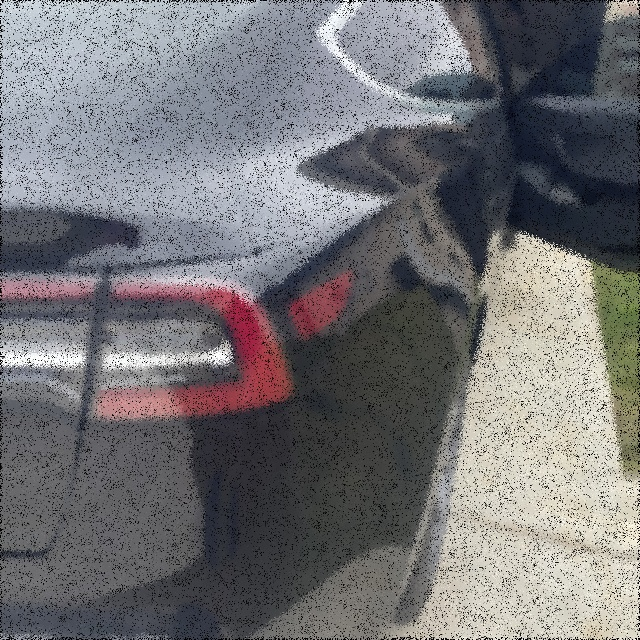reflector: (289, 266, 355, 339)
